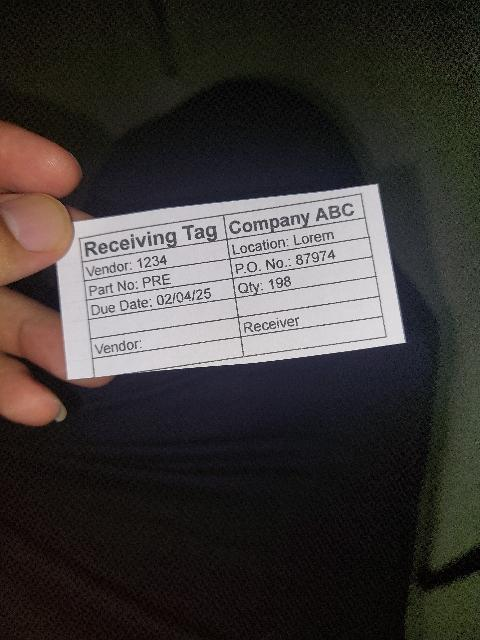PO no: (230, 237, 373, 278)
part no: (85, 260, 233, 300)
qty: (233, 257, 376, 298)
tags: (57, 184, 405, 379)
